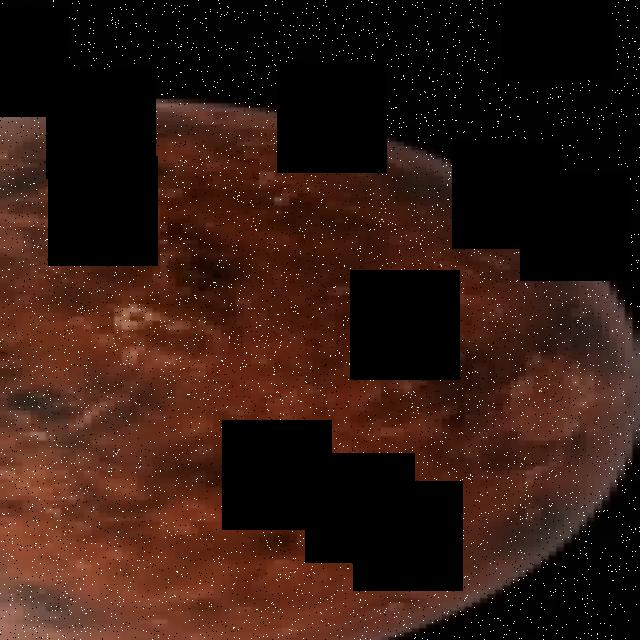Venus: (0, 98, 632, 640)
